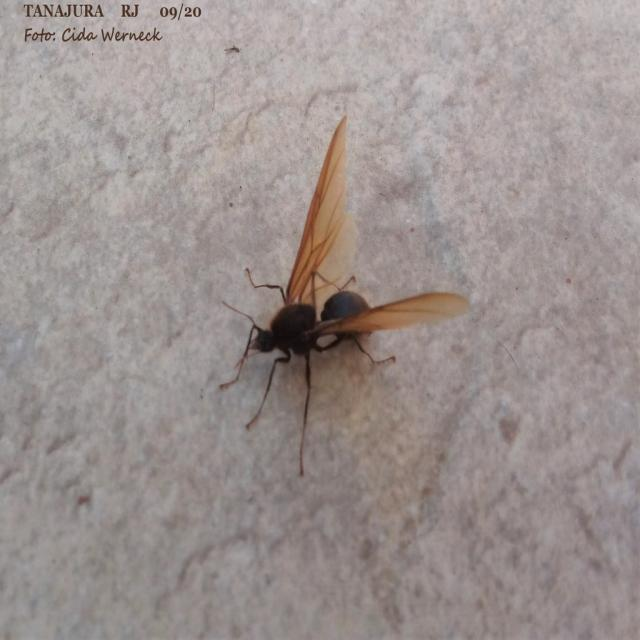Alive-Male-Alate: (219, 114, 471, 476)
